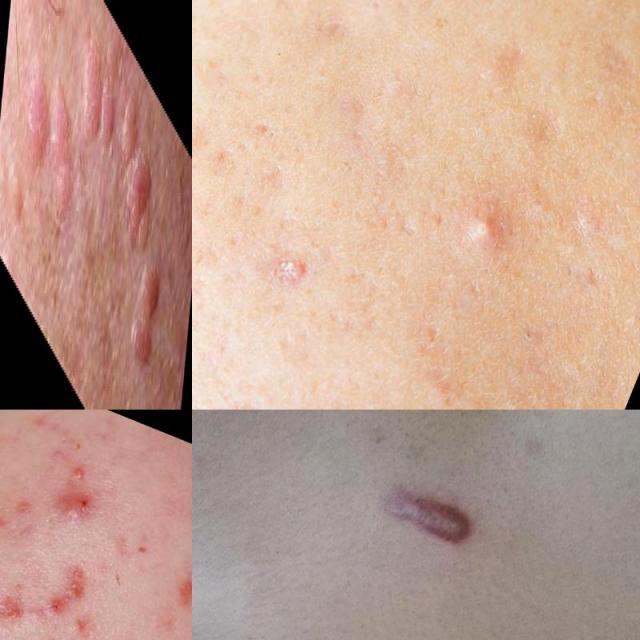Pimples: (102, 67, 172, 390), (359, 456, 516, 586), (14, 14, 82, 272), (76, 5, 121, 198), (449, 193, 518, 263), (41, 559, 99, 629), (57, 481, 108, 532), (162, 564, 192, 622)
